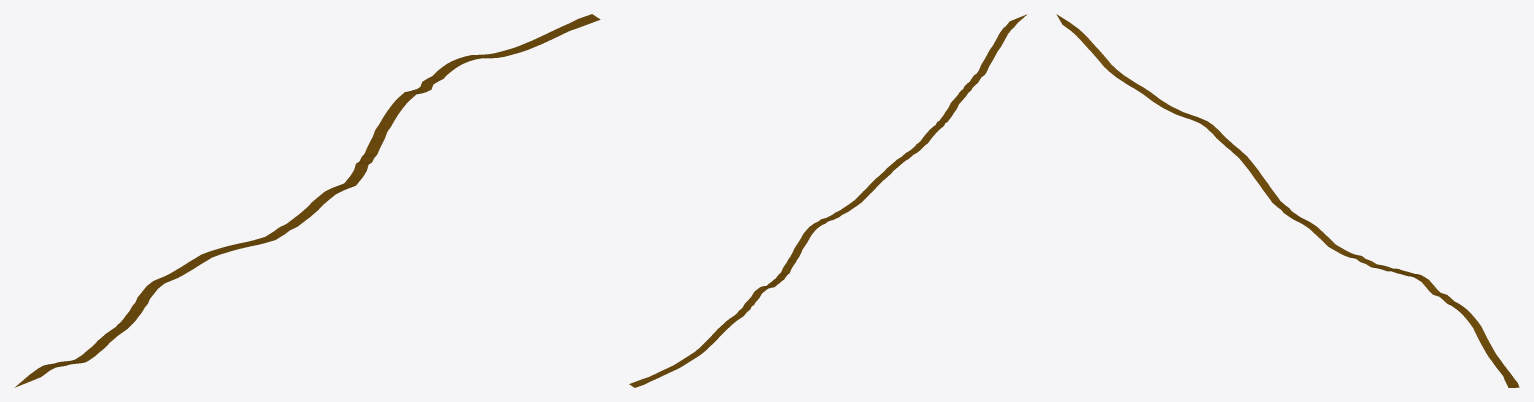
File: col_carisle_mid_dirtpath_01.fbx
3 renders of one model, left to right at view 1: azimuth 30°, elevation 25°; view 2: azimuth 210°, elevation 25°; view 3: azimuth 270°, elevation 25°, orthographic. The views are drawn at different scales.
Visible parts, largest first — view 1: col_carisle_mid_dirtpath_01; view 2: col_carisle_mid_dirtpath_01; view 3: col_carisle_mid_dirtpath_01.
Boxes of the visible parts, x1,y1,x2,y2 form: col_carisle_mid_dirtpath_01: (15,14,600,387); col_carisle_mid_dirtpath_01: (629,14,1026,387); col_carisle_mid_dirtpath_01: (1056,14,1519,387).
Size of the model in its own units: 163 by 102 by 15.04.
